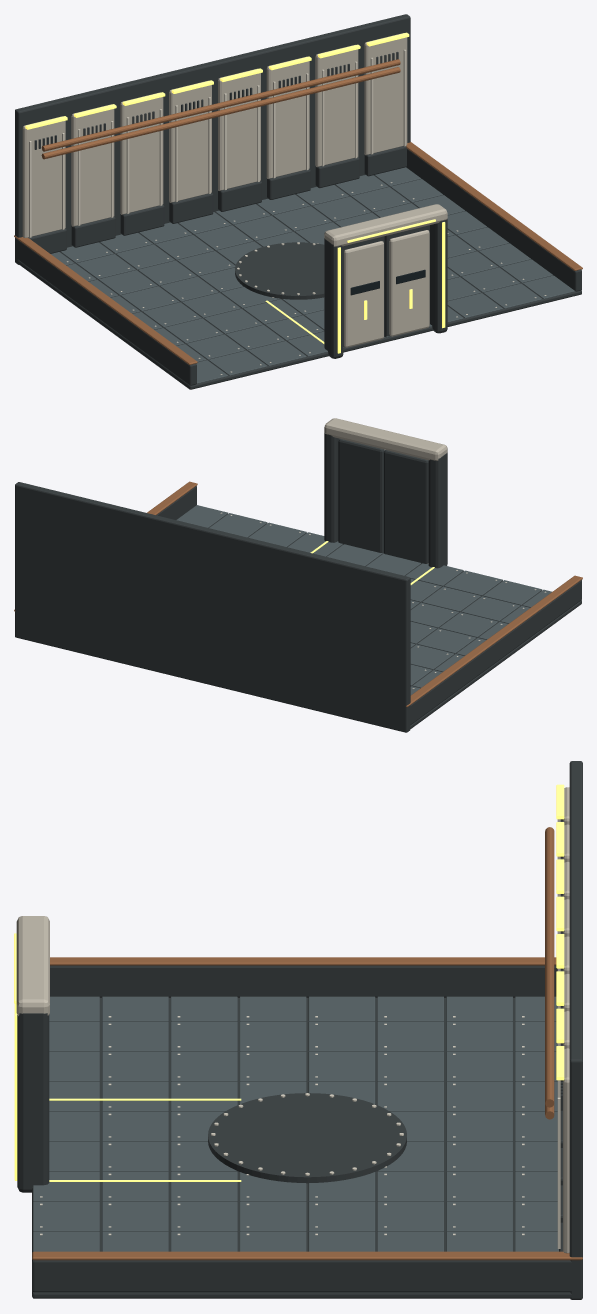
Rendered from engineering-shell.glb.
3 renders of one model, top to bottom at view 1: azimuth 30°, elevation 25°; view 2: azimuth 150°, elevation 25°; view 3: azimuth 270°, elevation 25°, orthographic. The views are drawn at different scales.
Visible parts, largest first — view 1: Floor_Floor, InteriorRevealBack_Ivory, InteriorRevealBack_Graphite, Floor_Graphite, InteriorRevealBack_Copper, InteriorRevealBack_Edge, DoorRight_Ivory, DoorLeft_Ivory, Airlock_Graphite, Floor_Copper, Airlock_Ivory, InteriorRevealBack_Amber (+2 smaller); view 2: InteriorRevealBack_Graphite, Floor_Floor, Floor_Graphite, DoorRight_Graphite, DoorLeft_Graphite, Airlock_Graphite, Airlock_Ivory, Floor_Copper; view 3: Floor_Floor, Floor_Graphite, Floor_Copper, InteriorRevealBack_Graphite, Airlock_Graphite, Airlock_Ivory, InteriorRevealBack_Ivory, InteriorRevealBack_Copper, InteriorRevealBack_Amber, Floor_Edge, Floor_Amber, Airlock_Amber (+1 smaller).
Boxes of the visible parts, x1,y1,x2,y2 form: Floor_Floor: (51,167,575,383); InteriorRevealBack_Ivory: (22,33,407,237); InteriorRevealBack_Graphite: (15,14,410,264); Floor_Graphite: (15,149,581,389); InteriorRevealBack_Copper: (41,59,400,159); InteriorRevealBack_Edge: (29,49,406,237); DoorRight_Ivory: (389,230,429,336); DoorLeft_Ivory: (344,241,383,347); Airlock_Graphite: (324,219,447,358); Floor_Copper: (14,142,582,364); Airlock_Ivory: (324,204,447,246); InteriorRevealBack_Amber: (25,32,409,129); InteriorRevealBack_Graphite: (15,482,410,732); Floor_Floor: (176,505,551,695); Floor_Graphite: (15,486,581,731); DoorRight_Graphite: (338,439,384,553); DoorLeft_Graphite: (384,450,428,563); Airlock_Graphite: (324,433,447,568); Airlock_Ivory: (324,418,447,460); Floor_Copper: (14,481,582,707); Floor_Floor: (33,996,558,1251); Floor_Graphite: (32,965,582,1298); Floor_Copper: (32,957,582,1260); InteriorRevealBack_Graphite: (559,761,582,1299); Airlock_Graphite: (17,1013,49,1192); Airlock_Ivory: (16,916,49,1015); InteriorRevealBack_Ivory: (563,787,569,1253); InteriorRevealBack_Copper: (545,827,554,1119); InteriorRevealBack_Amber: (556,784,564,1080); Floor_Edge: (40,1016,524,1235); Floor_Amber: (49,1098,241,1181); Airlock_Amber: (14,933,17,1180).
Size of the model in its own units: 10.74 by 4 by 8.57.
